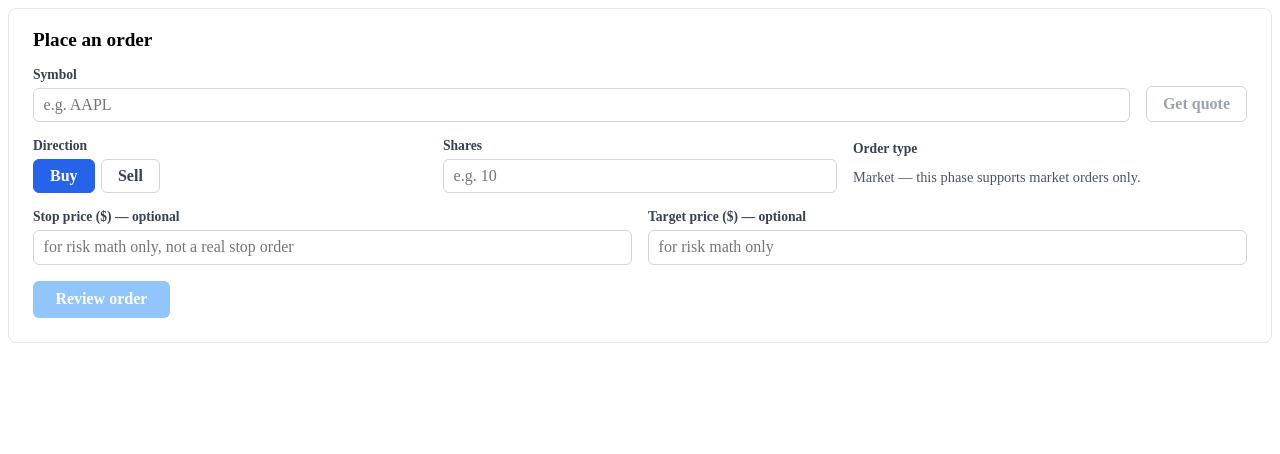
OrderForm quantity validation › rejects a quantity of -5 and disables Review order
Type "AAPL" into the field labelled "Symbol".
click(581, 105); type("AAPL")  # box [33,88,1130,122]
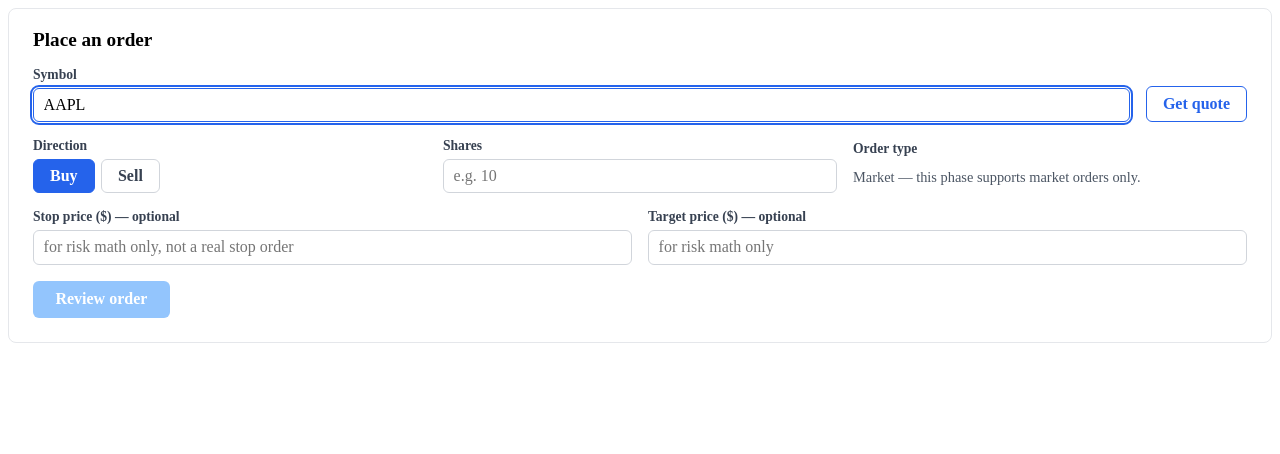
Click the button "Get quote".
click(1196, 104)  # box [1146,86,1247,122]
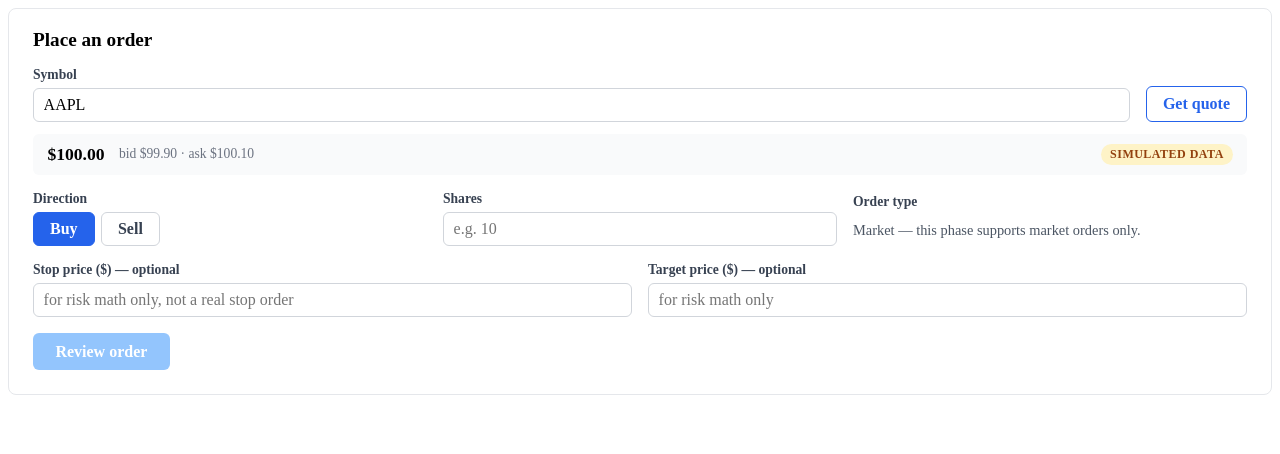
expect the text "bid $99.90 · ask $100.10" is shown: met, box [119,146,254,162]
Type "-5" into the field labelled "Shares".
click(640, 229); type("-5")  # box [443,212,837,246]
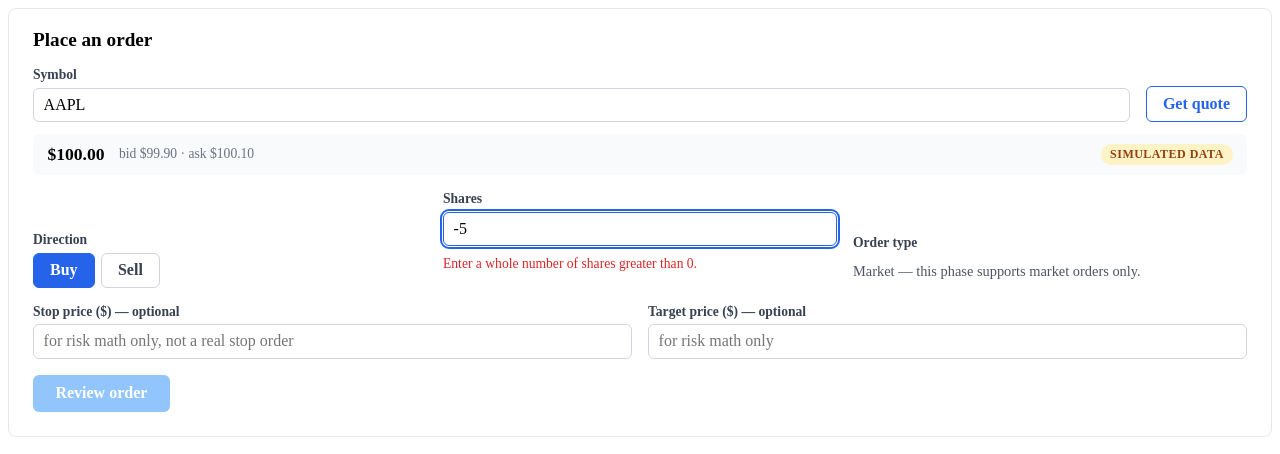
expect the button "Review order" is disabled: met, box [33,375,170,412]
expect the text "Enter a whole number of shares greater than 0." is shown: met, box [443,256,697,270]
